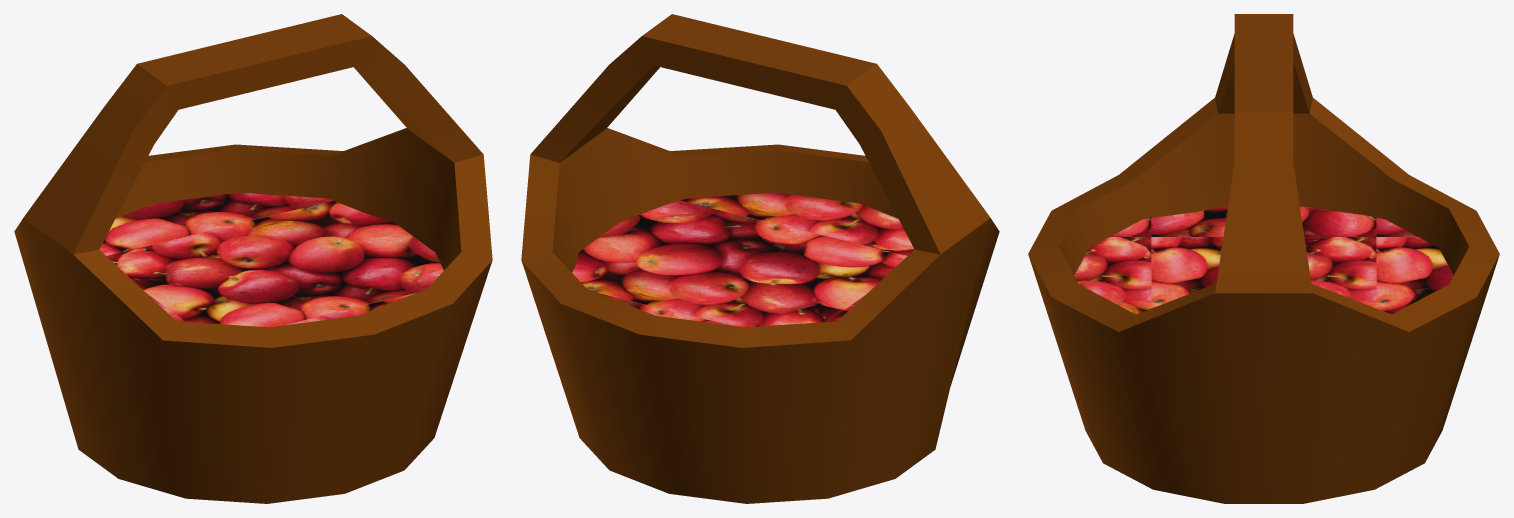
File: basket.glb
The picture shows the model from 3 angles, left to right: view 1: azimuth 30°, elevation 25°; view 2: azimuth 150°, elevation 25°; view 3: azimuth 270°, elevation 25°; orthographic projection. The views are drawn at different scales.
Visible parts, largest first — view 1: basket, filled; view 2: basket, filled; view 3: basket, filled.
Boxes of the visible parts, x1,y1,x2,y2 form: basket: (14, 14, 492, 503); filled: (99, 192, 443, 327); basket: (521, 14, 999, 503); filled: (572, 192, 914, 327); basket: (1028, 14, 1499, 503); filled: (1074, 206, 1453, 314).
Bounding box in the file's own units: 1.47 × 1.29 × 1.5.
Materials: 2 (1 with a texture image).
